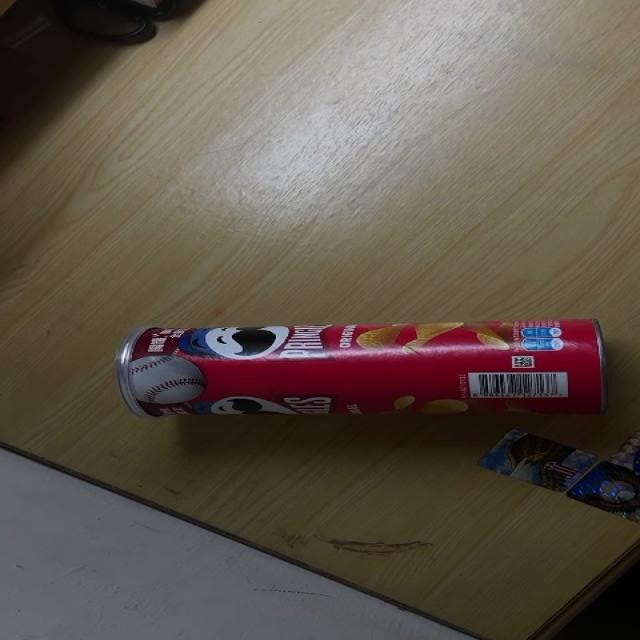Pringles: (115, 318, 608, 419)
